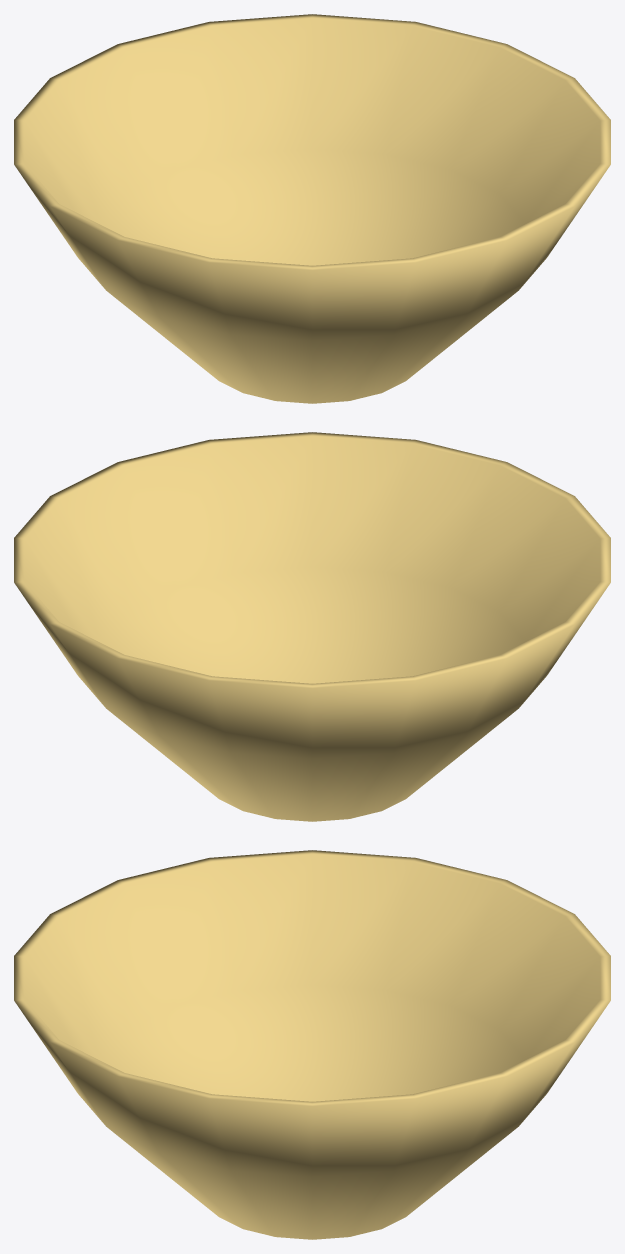
File: singing_bowl.glb
3 views of the same model, one above another, from view 1: azimuth 30°, elevation 25°; view 2: azimuth 150°, elevation 25°; view 3: azimuth 270°, elevation 25° (orthographic).
Visible parts, largest first — view 1: singing_bowl; view 2: singing_bowl; view 3: singing_bowl.
Boxes of the visible parts, x1,y1,x2,y2 form: singing_bowl: (14, 14, 610, 403); singing_bowl: (14, 432, 610, 821); singing_bowl: (14, 850, 610, 1239).
Size of the model in its own units: 0.28 by 0.11 by 0.2757.
